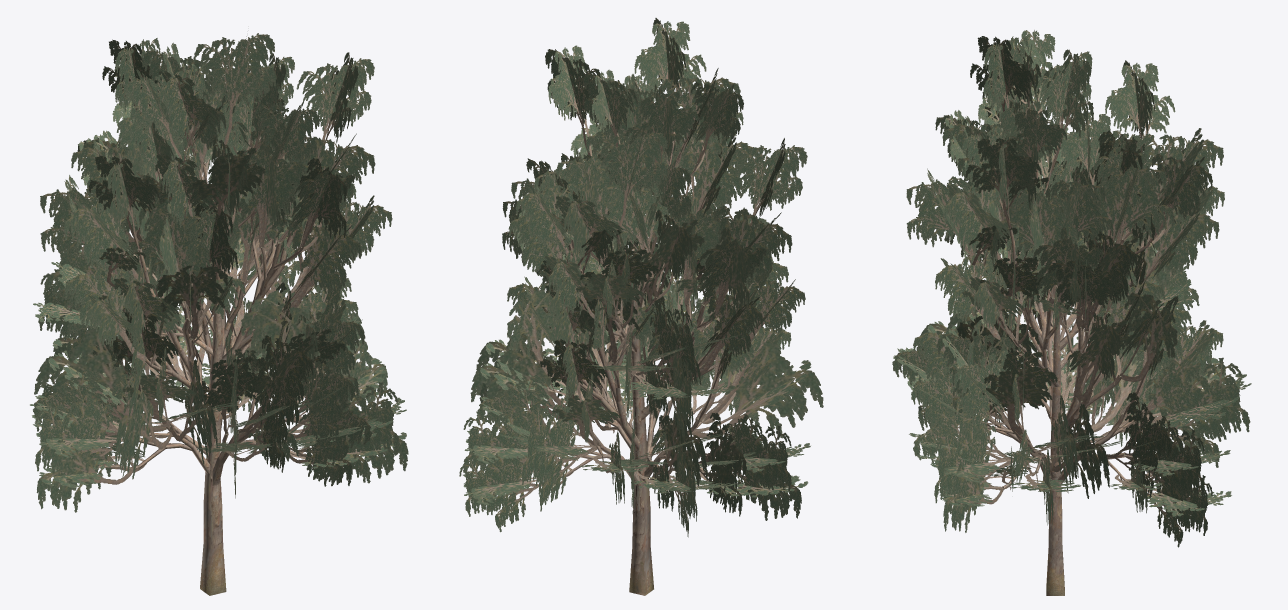
The model's file is EucalyptusGlobulus.glb.
3 renders of one model, left to right at view 1: azimuth 30°, elevation 25°; view 2: azimuth 150°, elevation 25°; view 3: azimuth 270°, elevation 25°, orthographic. The views are drawn at different scales.
Parts seen in each view (by area): view 1: Blue_Gum_Eucalyptus__Realistic_LOD3; view 2: Blue_Gum_Eucalyptus__Realistic_LOD3; view 3: Blue_Gum_Eucalyptus__Realistic_LOD3.
Part boxes in pixels (x1,y1,x2,y2): Blue_Gum_Eucalyptus__Realistic_LOD3: (30,33,408,595); Blue_Gum_Eucalyptus__Realistic_LOD3: (459,18,823,595); Blue_Gum_Eucalyptus__Realistic_LOD3: (892,30,1251,595).
Bounding box in the file's own units: 16.23 × 25.15 × 16.48.
Materials: 1 (1 with a texture image).
